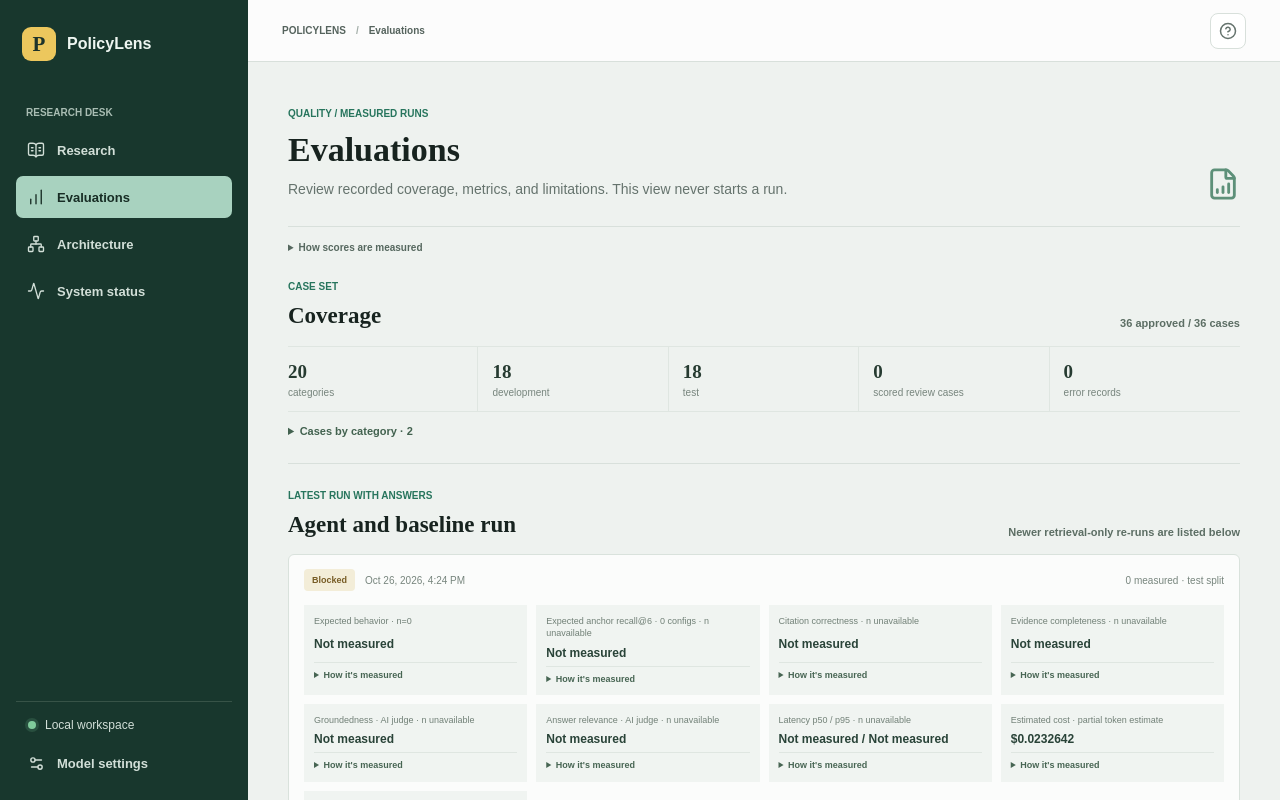
evaluation results › explains metric calculations and labels partial token cost estimates
The image size is (1280, 800).
Expected: the text "$0.0232642" is shown, [1011,732,1074,746]
Expected: the text "Estimated cost · partial token estimate" is shown, [1011,715,1163,725]
Click the heading "How it's measured" below "$0.0232642".
click(1060, 765)  # box [1020,760,1100,770]
(page scrolled)
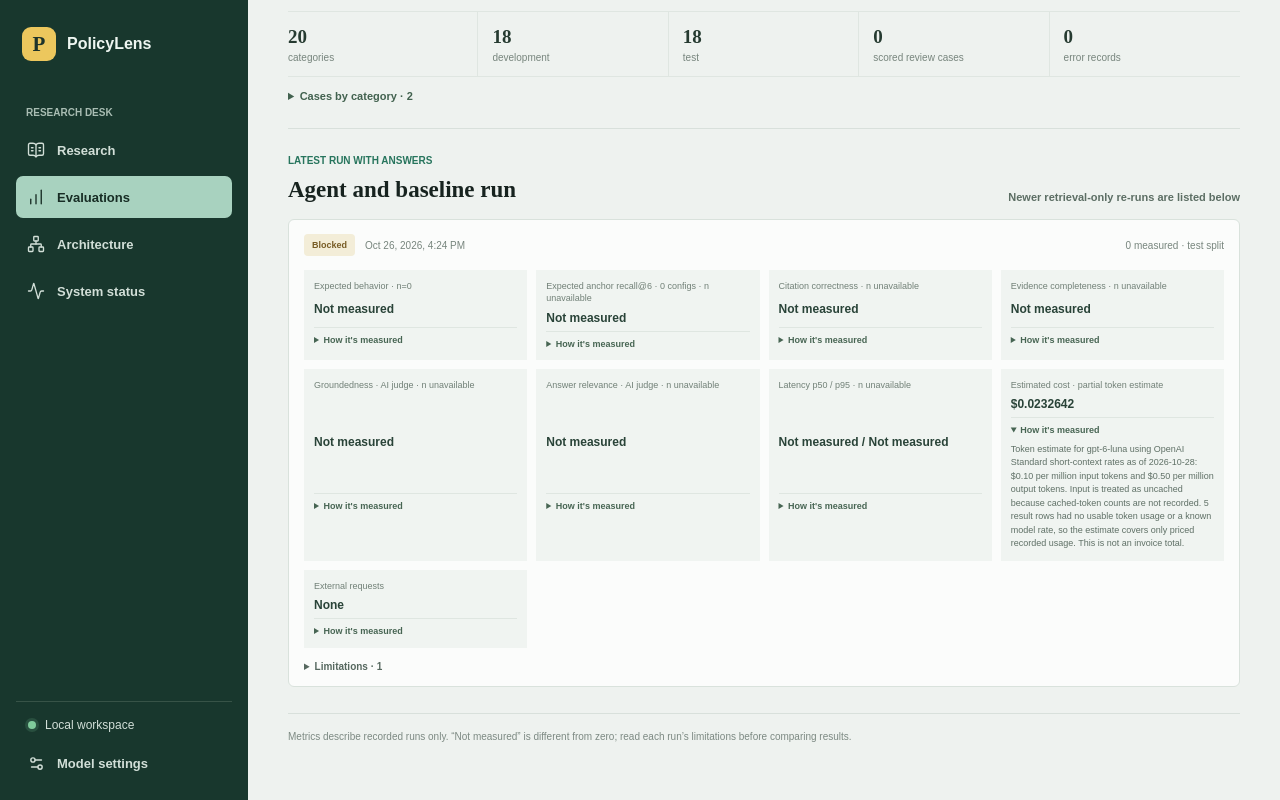
Expected: the text "OpenAI Standard short-context rates" is shown, [1011,444,1214,548]
